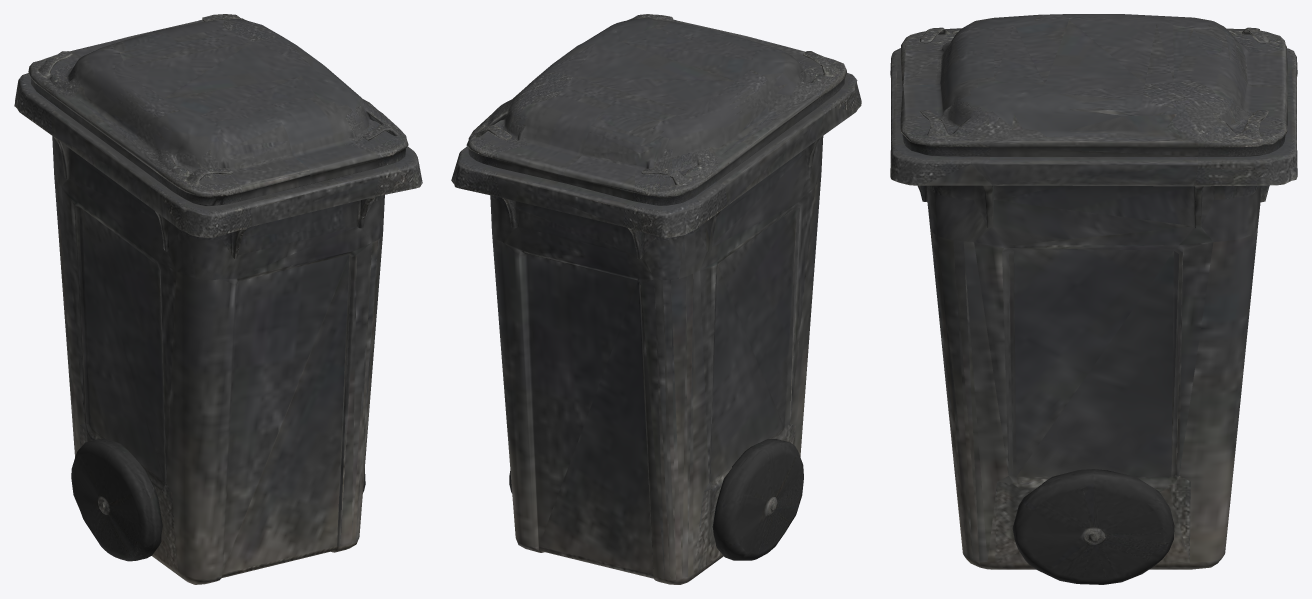
Rendered from p7-wheelie-bin-t25.glb.
3 renders of one model, left to right at view 1: azimuth 30°, elevation 25°; view 2: azimuth 150°, elevation 25°; view 3: azimuth 270°, elevation 25°, orthographic. The views are drawn at different scales.
Visible parts, largest first — view 1: p7-wheelie-bin-t25; view 2: p7-wheelie-bin-t25; view 3: p7-wheelie-bin-t25.
Part boxes in pixels (x1,y1,x2,y2): p7-wheelie-bin-t25: (14, 14, 422, 584); p7-wheelie-bin-t25: (451, 14, 861, 584); p7-wheelie-bin-t25: (890, 14, 1297, 584).
Size of the model in its own units: 0.6 by 1.1 by 0.85.
1 material, 1 textured.
